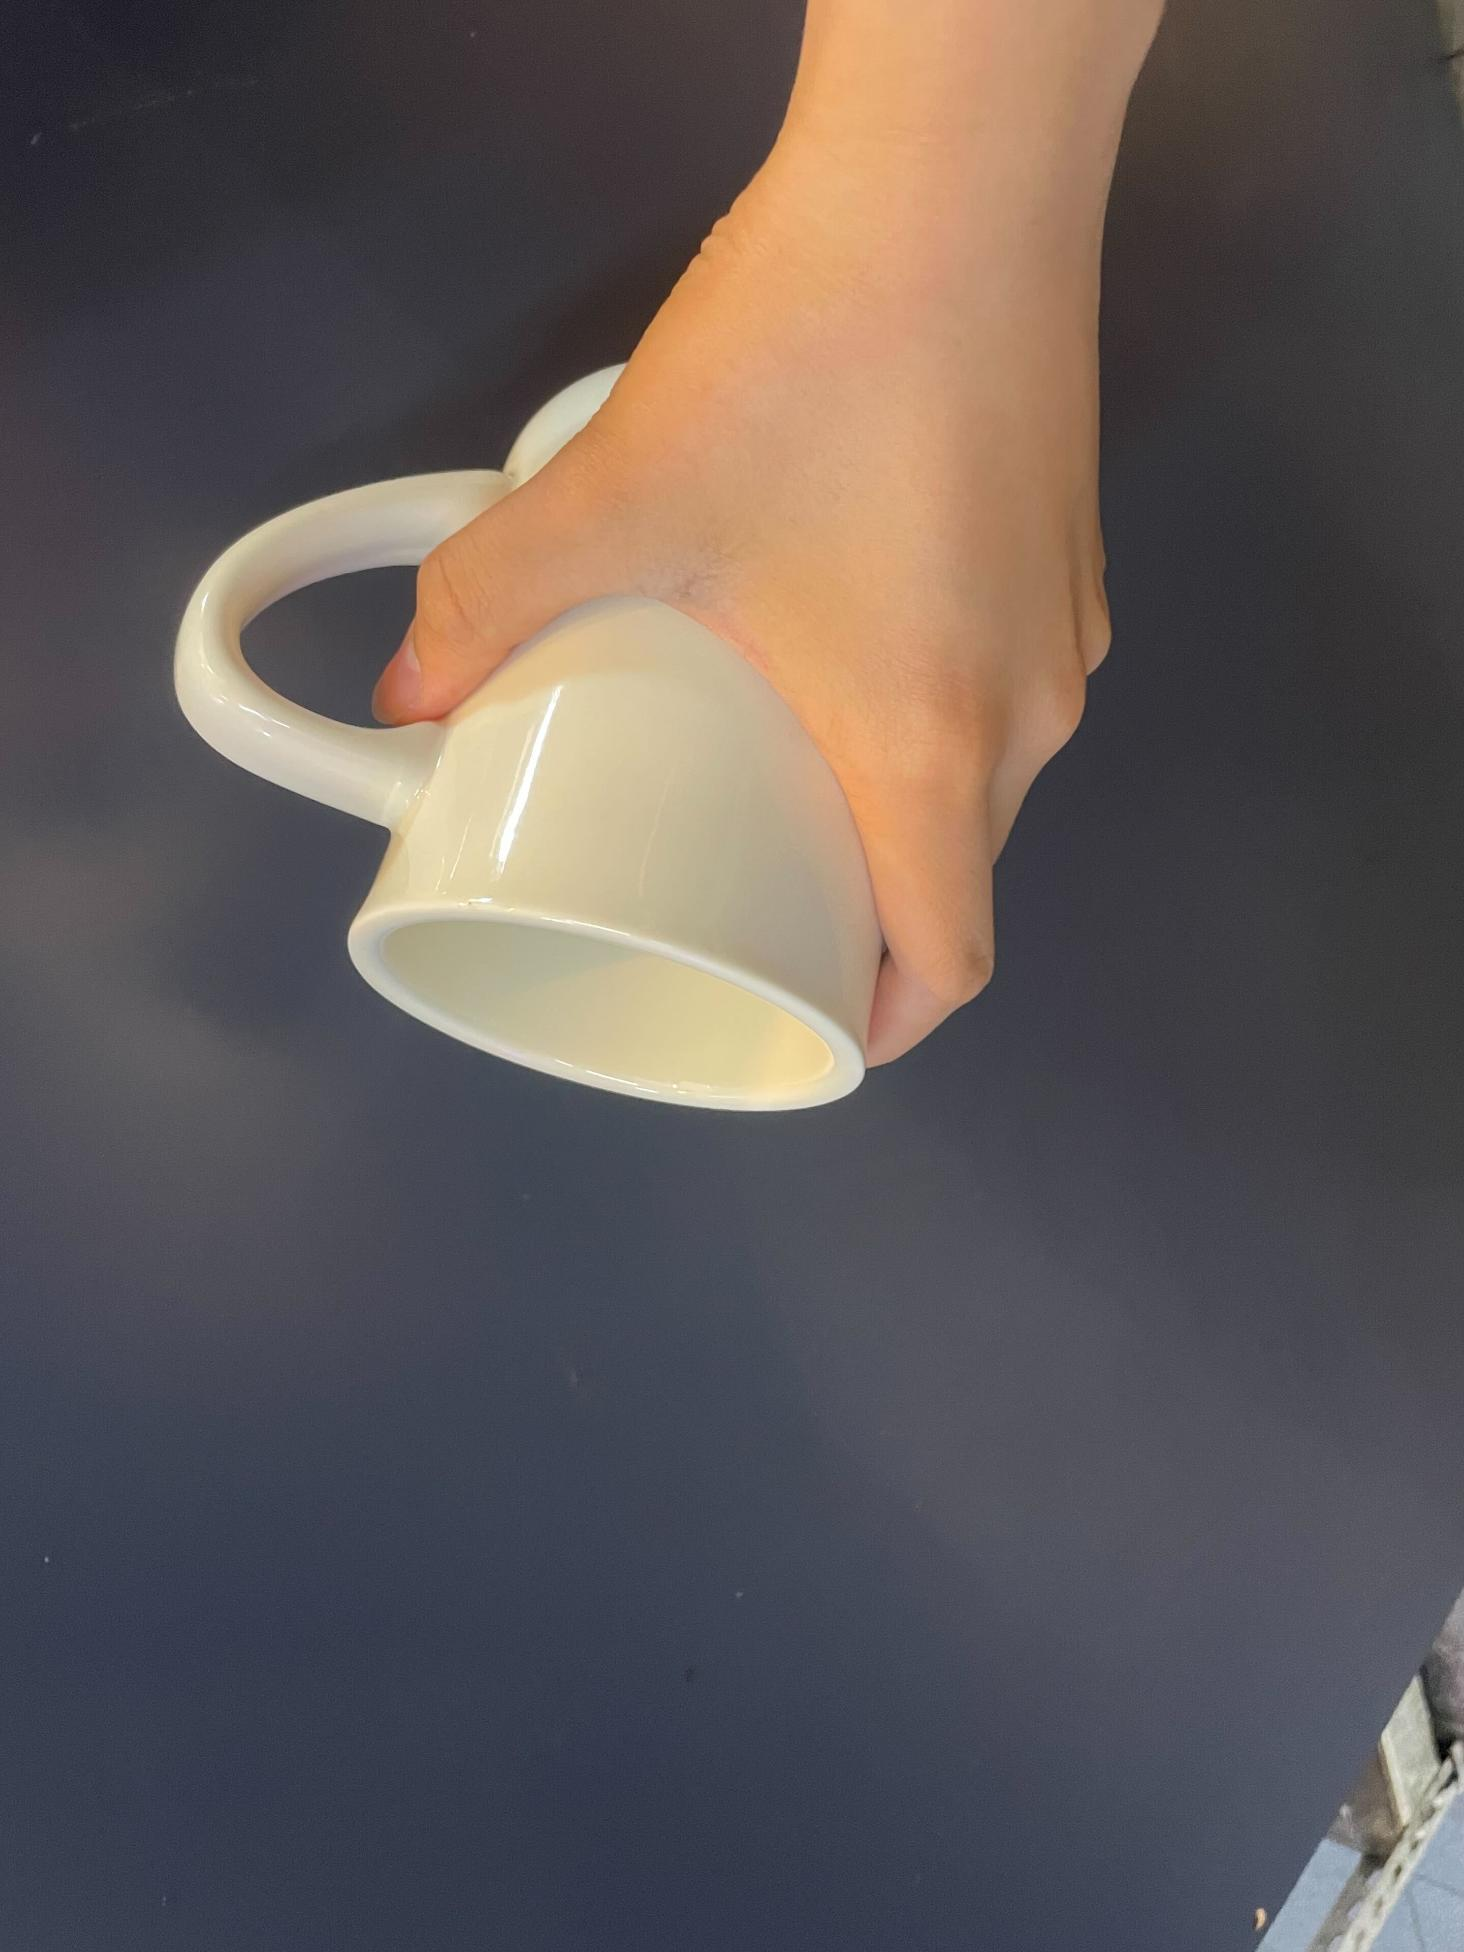cup: (134, 20, 1147, 1142)
